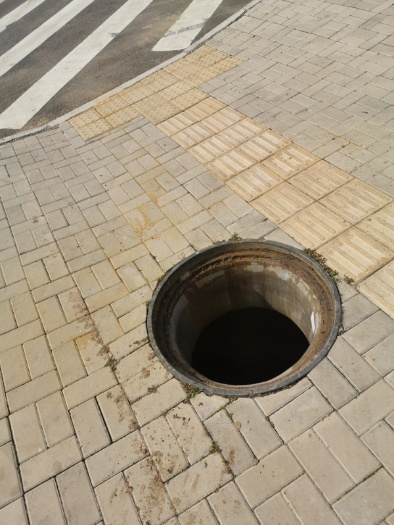lose: (147, 238, 344, 398)
